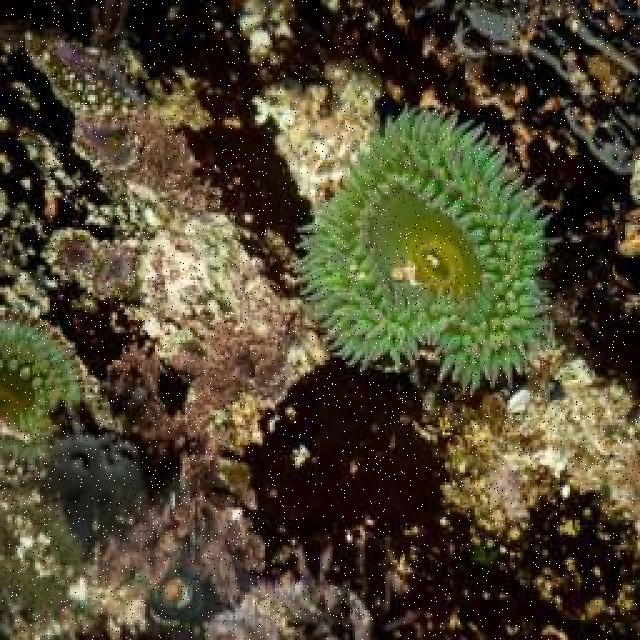reefs: (284, 103, 556, 395), (0, 307, 82, 465)
